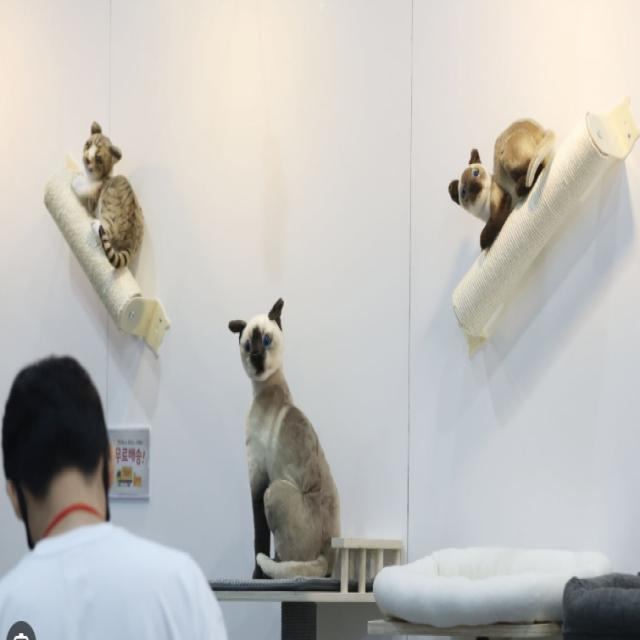cats: (218, 294, 344, 576), (74, 102, 159, 268), (460, 122, 567, 231)
